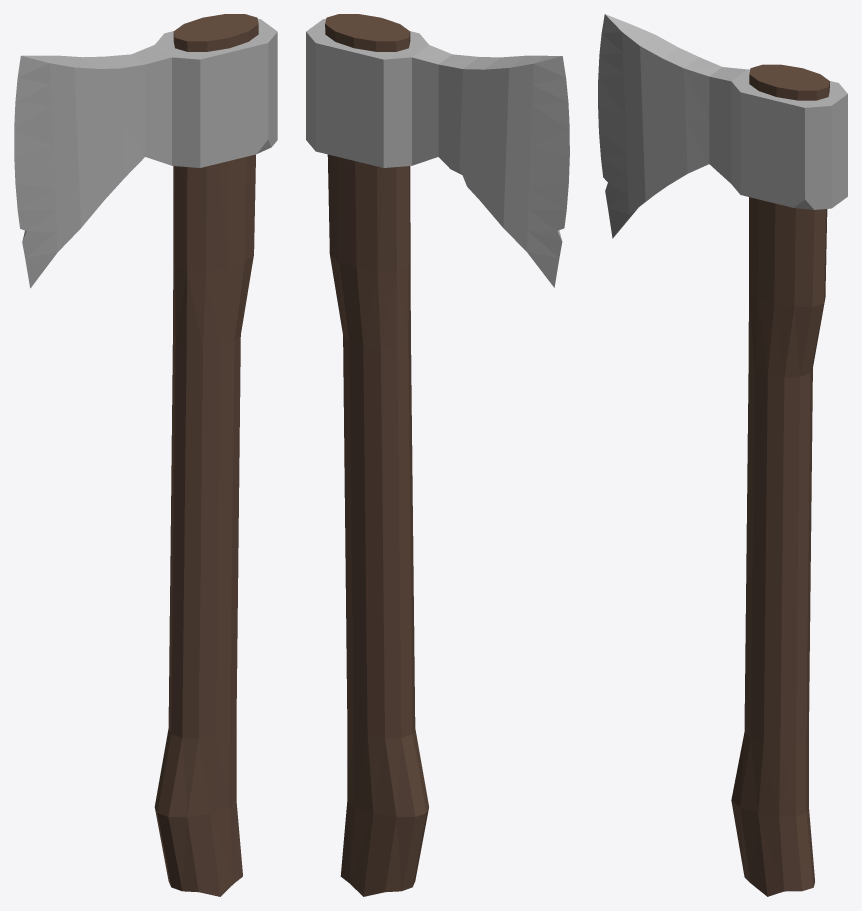
The model's file is Axe.fbx.
3 views of the same model, side by side, from view 1: azimuth 30°, elevation 25°; view 2: azimuth 150°, elevation 25°; view 3: azimuth 330°, elevation 25° (orthographic). The views are drawn at different scales.
Visible parts, largest first — view 1: Axe; view 2: Axe; view 3: Axe.
Boxes of the visible parts, x1,y1,x2,y2 form: Axe: (14, 14, 277, 896); Axe: (306, 14, 569, 896); Axe: (598, 14, 847, 896).
Bounding box in the file's own units: 0.2667 × 0.8756 × 0.0649.
